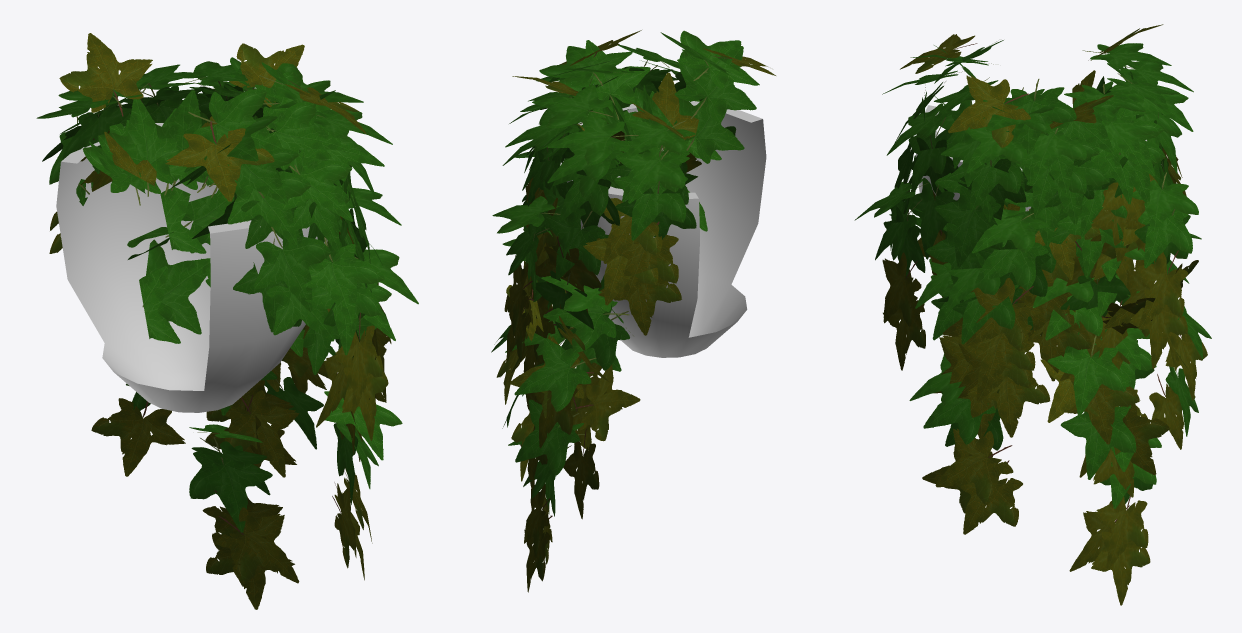
File: Zuurstofplantje.fbx
3 views of the same model, side by side, from view 1: azimuth 30°, elevation 25°; view 2: azimuth 150°, elevation 25°; view 3: azimuth 270°, elevation 25° (orthographic). The views are drawn at different scales.
Parts seen in each view (by area): view 1: pot, blad2 (×13), blad1 (×6), blad5 (×6), blad4 (×6), blad3 (×5), blad6 (×4), blad14 (×2), blad (×4), blad7 (×3), blad11 (×2), blad10 (×2) (+3 smaller); view 2: pot, blad2 (×8), blad6 (×8), blad7 (×8), blad3 (×7), blad8 (×2), blad9 (×2), blad12 (×2), blad4 (×3), blad5 (×2), blad13 (×3), blad1 (+1 smaller); view 3: blad6 (×17), blad2 (×22), blad7 (×16), blad3 (×16), blad5 (×5), blad12 (×3), blad4 (×5), blad11 (×2), blad13 (×3), blad10, blad9, blad14.
Boxes of the visible parts, <box> form: pot: <box>56,123,327,412</box>; blad2 (×13): <box>139,61,418,460</box>; blad1 (×6): <box>83,90,376,374</box>; blad5 (×6): <box>215,238,358,584</box>; blad4 (×6): <box>49,83,358,532</box>; blad3 (×5): <box>191,165,381,495</box>; blad6 (×4): <box>202,227,383,550</box>; blad14 (×2): <box>59,33,304,116</box>; blad (×4): <box>104,105,208,343</box>; blad7 (×3): <box>206,285,388,609</box>; blad11 (×2): <box>165,80,366,201</box>; blad10 (×2): <box>188,62,317,150</box>; pot: <box>560,101,766,357</box>; blad2 (×8): <box>492,84,695,311</box>; blad6 (×8): <box>504,181,678,558</box>; blad7 (×8): <box>496,224,681,592</box>; blad3 (×7): <box>506,124,689,352</box>; blad8 (×2): <box>558,40,756,122</box>; blad9 (×2): <box>539,30,757,88</box>; blad12 (×2): <box>515,270,593,475</box>; blad4 (×3): <box>559,169,696,370</box>; blad5 (×2): <box>510,335,640,441</box>; blad13 (×3): <box>511,316,608,519</box>; blad1: <box>673,96,744,163</box>; blad6 (×17): <box>882,170,1187,570</box>; blad2 (×22): <box>854,43,1198,406</box>; blad7 (×16): <box>883,208,1207,605</box>; blad3 (×16): <box>875,83,1192,508</box>; blad5 (×5): <box>922,269,1160,571</box>; blad12 (×3): <box>1060,266,1198,479</box>; blad4 (×5): <box>883,135,1050,450</box>; blad11 (×2): <box>900,34,1030,148</box>; blad13 (×3): <box>1101,297,1195,475</box>; blad10: <box>1005,79,1076,154</box>; blad9: <box>983,100,1050,133</box>; blad14: <box>1041,95,1113,133</box>.
Size of the model in its own units: 2.59 by 5.01 by 3.25.
